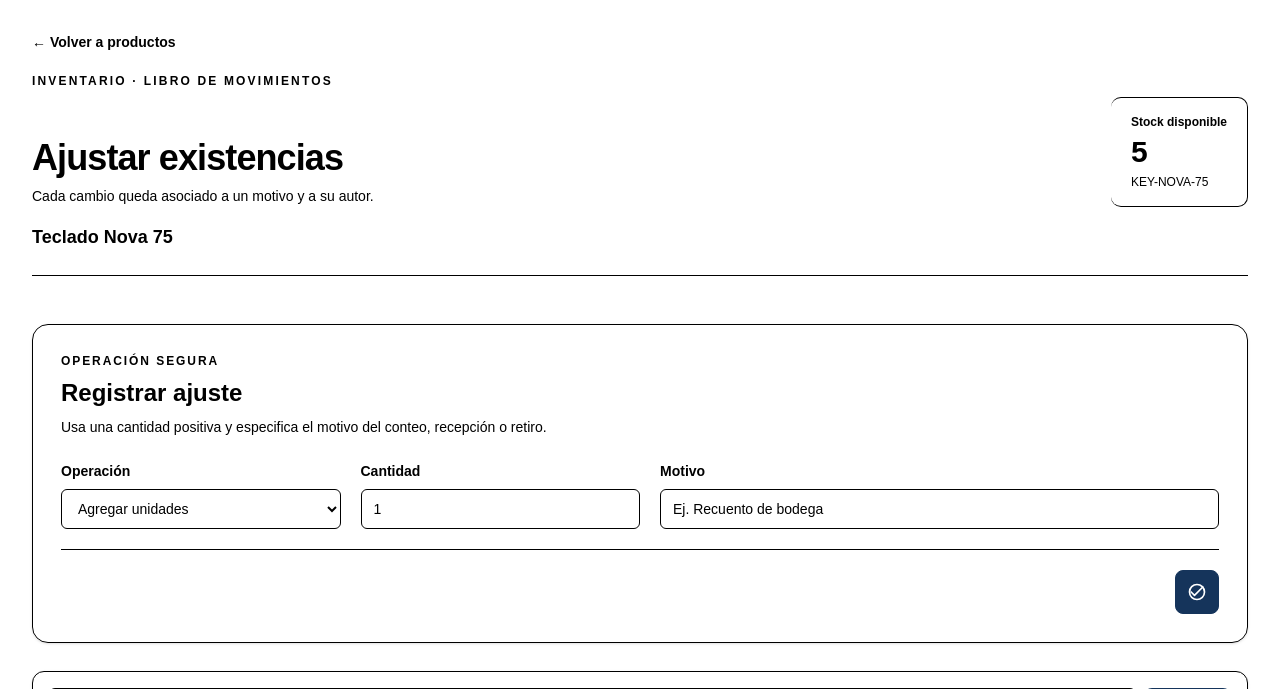
Test: inventory administration › submits a signed adjustment, updates availability and invalidates related caches
Expected: the text "Teclado Nova 75" is shown, x1=32 y1=227 x2=173 y2=247
Step 1. Replace the text in the number field labelled "Cantidad" with "3" → (500, 509), box x1=360 y1=489 x2=640 y2=529
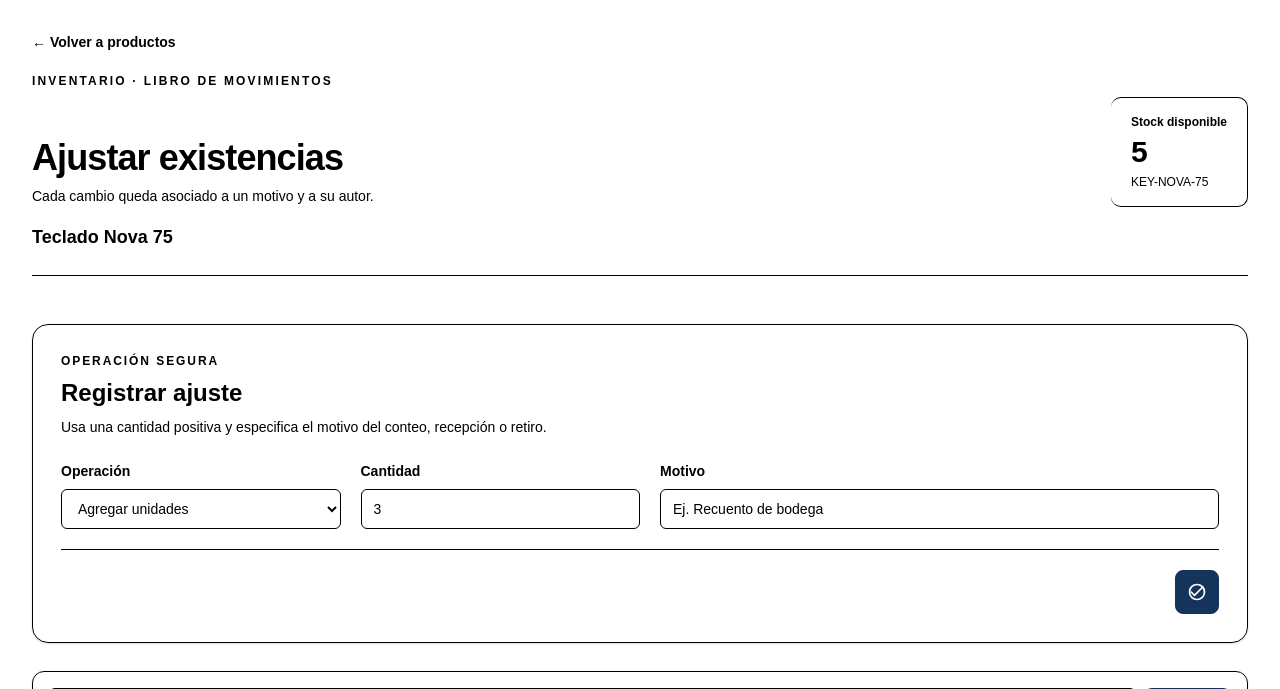
Step 2. Type "Recepción de bodega" into the field labelled "Motivo" → (940, 509), box x1=660 y1=489 x2=1219 y2=529
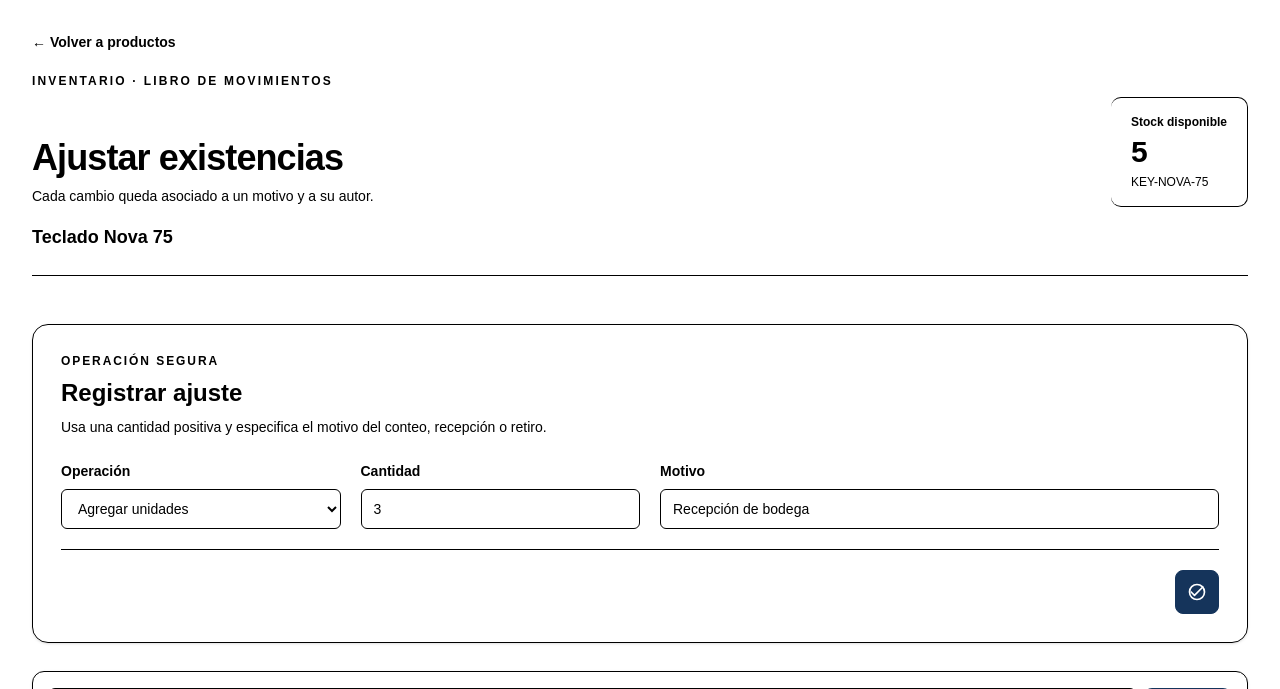
Step 3. Click the button named "Registrar ajuste" → (1197, 592), box x1=1175 y1=570 x2=1219 y2=614
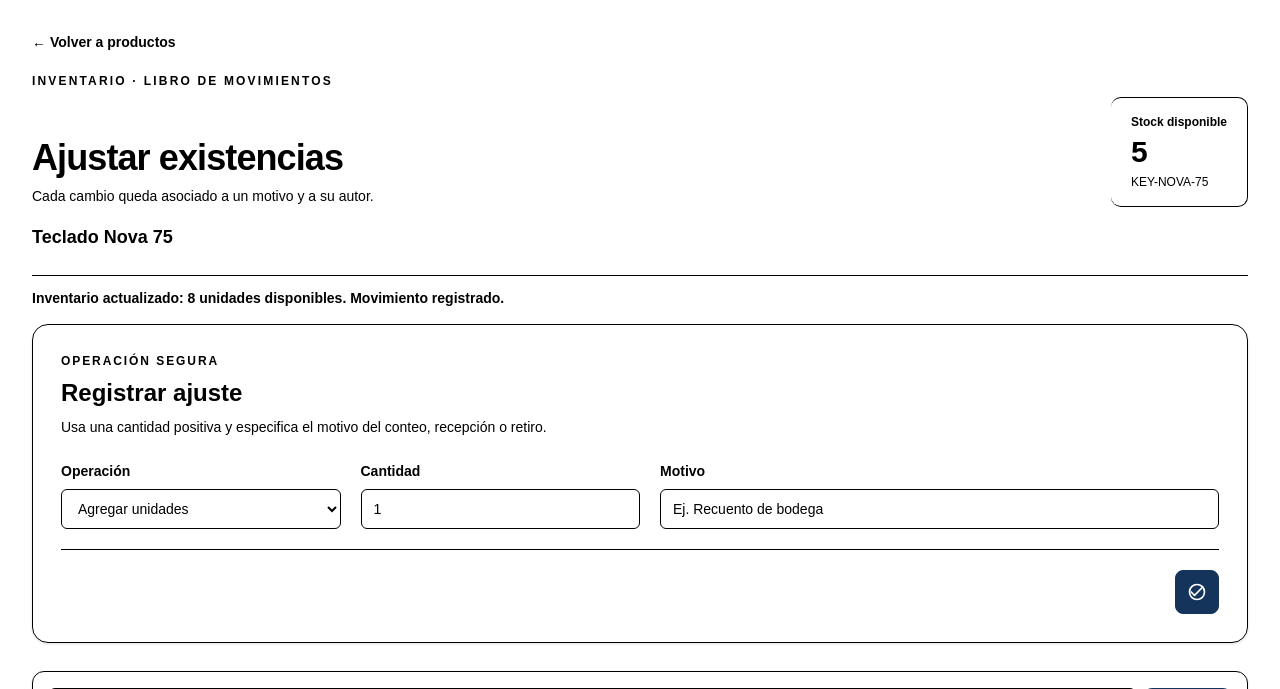
Expected: the text "Inventario actualizado: 8 unidades disponibles. Movimiento registrado." is shown, x1=32 y1=290 x2=504 y2=306
